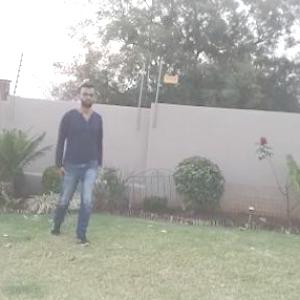follow: (57, 86, 105, 231)
